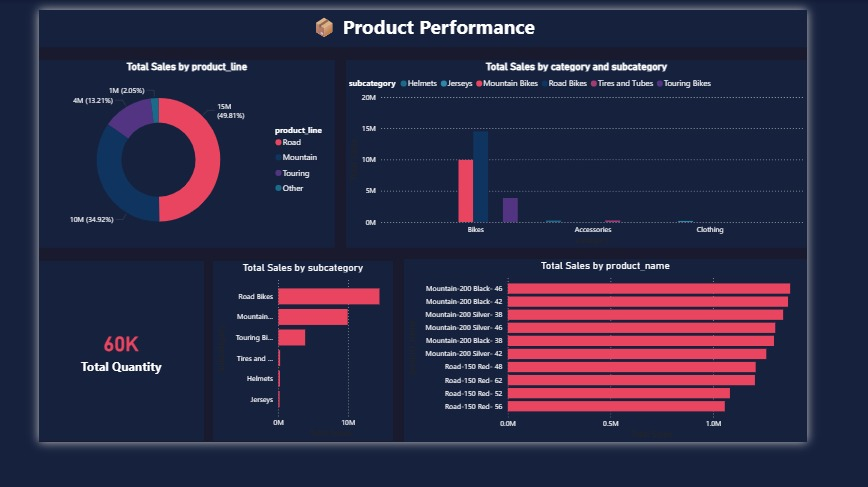

Layout of this report page (visuals, bound fields, positions):
{"tool":"powerbi","page":{"name":"Product Performance","canvas":[1280,720],"ordinal":1},"visuals":[{"type":"textbox","box":[0,0,1280,61.7],"z":0},{"type":"clusteredBarChart","fields":{"Category":["products.product_name"],"Y":["fact_sales.Total Sales"]},"box":[608.3,415,671.7,305],"z":1},{"type":"clusteredBarChart","fields":{"Category":["products.subcategory"],"Y":["fact_sales.Total Sales"]},"box":[290,418.3,300,300],"z":2},{"type":"clusteredColumnChart","fields":{"Y":["fact_sales.Total Sales"],"Series":["products.subcategory"],"Category":["products.category"]},"box":[511.7,83.3,768.3,313.3],"z":3},{"type":"donutChart","fields":{"Category":["products.product_line"],"Y":["fact_sales.Total Sales"]},"box":[0,83.3,493.3,313.3],"z":4},{"type":"advanceCardE03760C5AB684758B56AA29F9E6C257B","fields":{"mainMeasure":["fact_sales.Total Quantity"]},"box":[0,418.3,275,300],"z":5}]}

Visuals, with their boxes in screenshot pixels (x1, y1, x2, y2), scaled from the page's 1280x720 canvas onto the 868x487 screenshot:
textbox: (0, 0, 867, 42)
clusteredBarChart - products.product_name x fact_sales.Total Sales: (413, 281, 867, 486)
clusteredBarChart - products.subcategory x fact_sales.Total Sales: (197, 283, 400, 486)
clusteredColumnChart - fact_sales.Total Sales x products.subcategory: (347, 56, 867, 268)
donutChart - products.product_line x fact_sales.Total Sales: (0, 56, 335, 268)
advanceCardE03760C5AB684758B56AA29F9E6C257B - fact_sales.Total Quantity: (0, 283, 186, 486)
